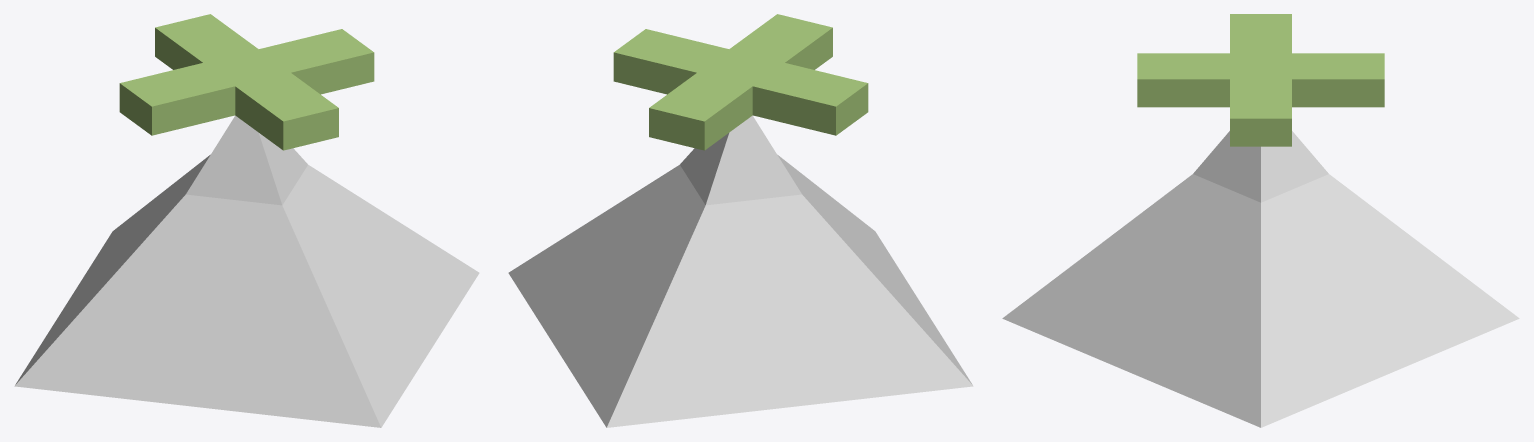
Rendered from support.gltf.
3 renders of one model, left to right at view 1: azimuth 30°, elevation 25°; view 2: azimuth 150°, elevation 25°; view 3: azimuth 270°, elevation 25°, orthographic. The views are drawn at different scales.
Visible parts, largest first — view 1: distant, close; view 2: distant, close; view 3: distant, close.
Boxes of the visible parts, x1,y1,x2,y2 form: distant: (14, 154, 479, 427); close: (119, 14, 374, 205); distant: (508, 154, 973, 427); close: (613, 14, 868, 205); distant: (1002, 174, 1519, 427); close: (1137, 14, 1384, 202).
Size of the model in its own units: 8.37 by 4.5 by 8.37.
